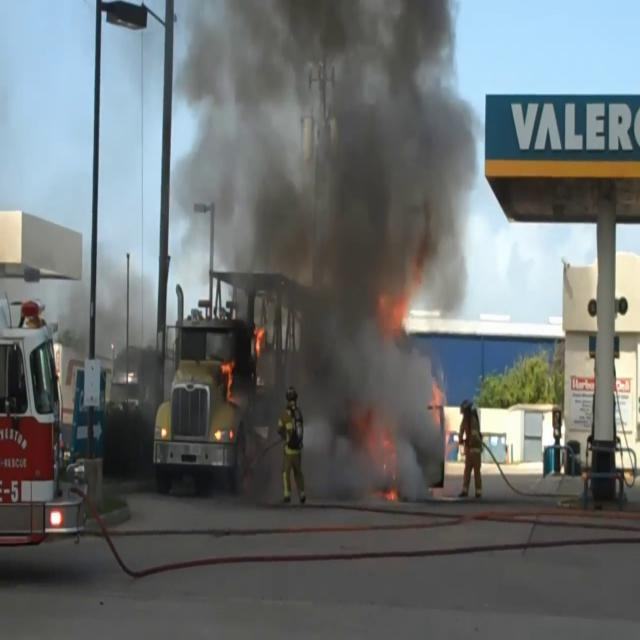Smoke: (199, 1, 486, 483)
